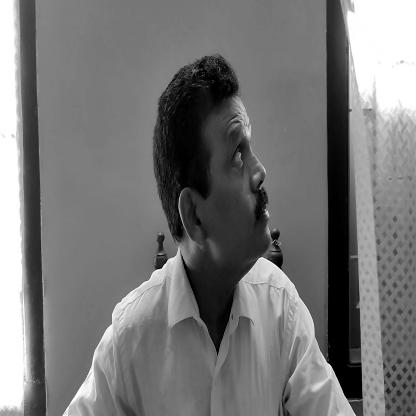Distracted: (153, 55, 271, 280)
